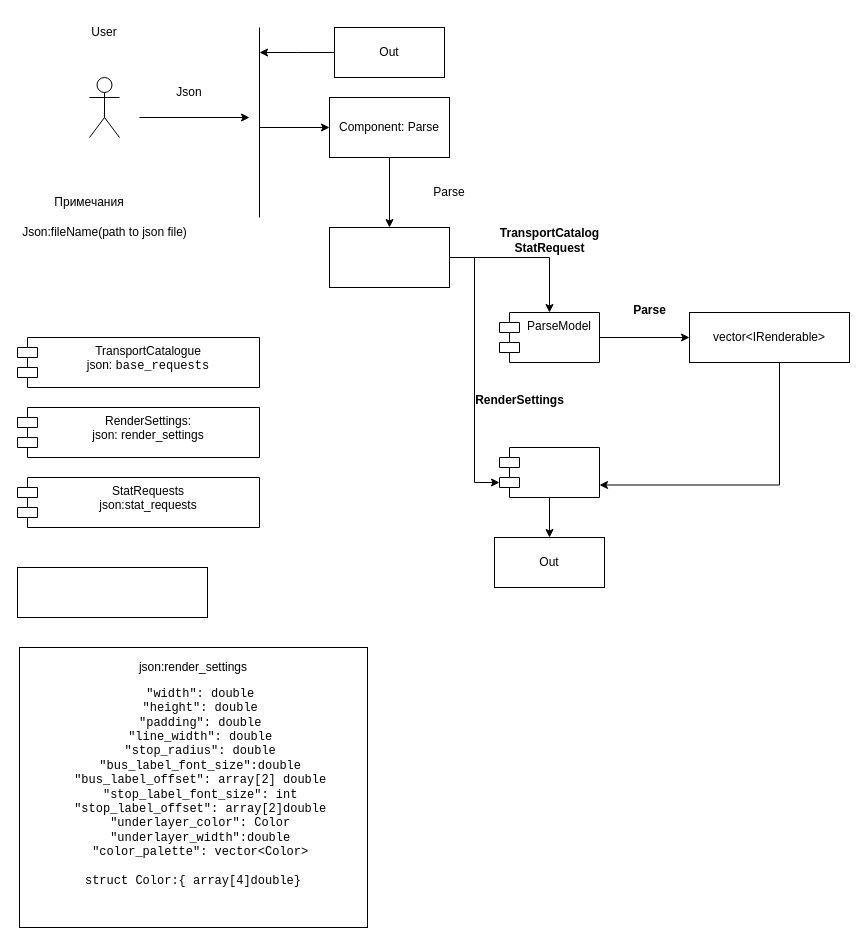
Image size: 867x945. Some labels were removed from this diagram. The centre of each missing label's shape, as x and y in pixels:
Actor: pixel 104 107
Data: 1)TransportCatalogue 2) RenderSettings 3) StatRequests: pixel 389 257
MapRender: Interface: pixel 549 472
RenderSettings: Domain params from "render_settings": pixel 112 592
